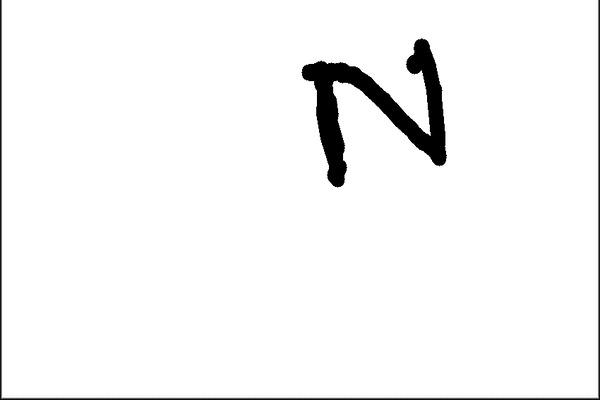N: (296, 35, 457, 193)
